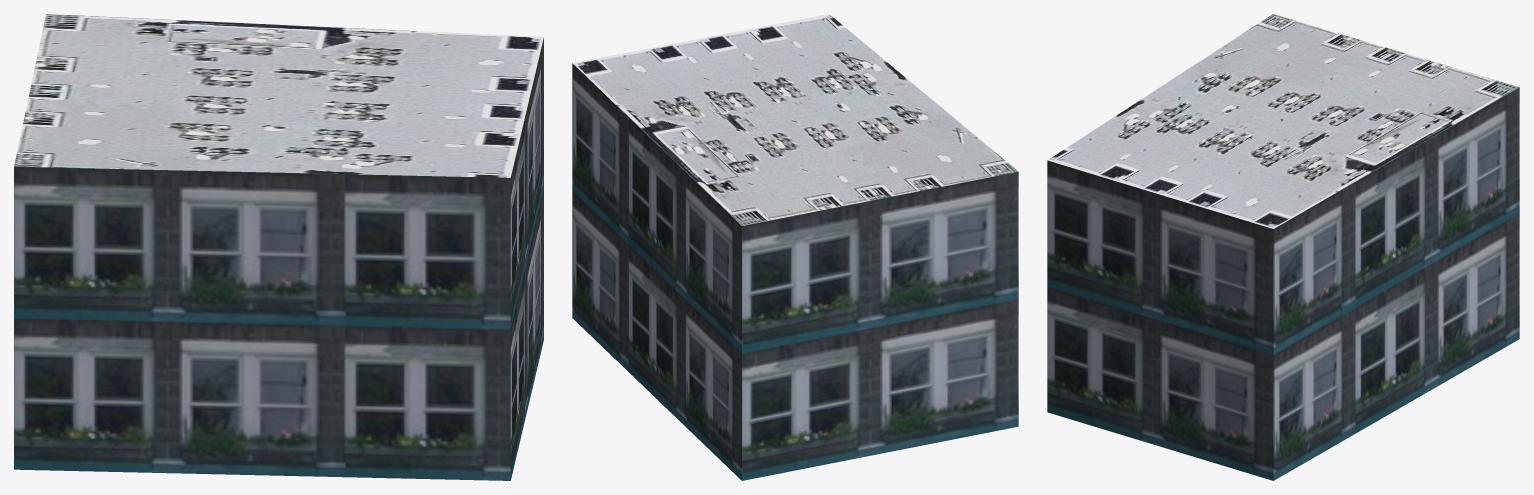
The model's file is ResTex__4794.fbx.
The picture shows the model from 3 angles, left to right: view 1: azimuth 30°, elevation 25°; view 2: azimuth 150°, elevation 25°; view 3: azimuth 270°, elevation 25°; orthographic projection. The views are drawn at different scales.
Visible parts, largest first — view 1: CityEngineMaterial_11_m, CityEngineMaterial_m; view 2: CityEngineMaterial_11_m, CityEngineMaterial_m; view 3: CityEngineMaterial_11_m, CityEngineMaterial_m.
Part boxes in pixels (box(x1,y1,x2,y2)): CityEngineMaterial_11_m: box(14, 38, 543, 480); CityEngineMaterial_m: box(14, 14, 543, 177); CityEngineMaterial_11_m: box(572, 63, 1018, 480); CityEngineMaterial_m: box(572, 14, 1017, 225); CityEngineMaterial_11_m: box(1047, 87, 1519, 480); CityEngineMaterial_m: box(1047, 14, 1519, 228).
Size of the model in its own units: 10.99 by 6 by 10.2.
2 materials, 2 textured.
